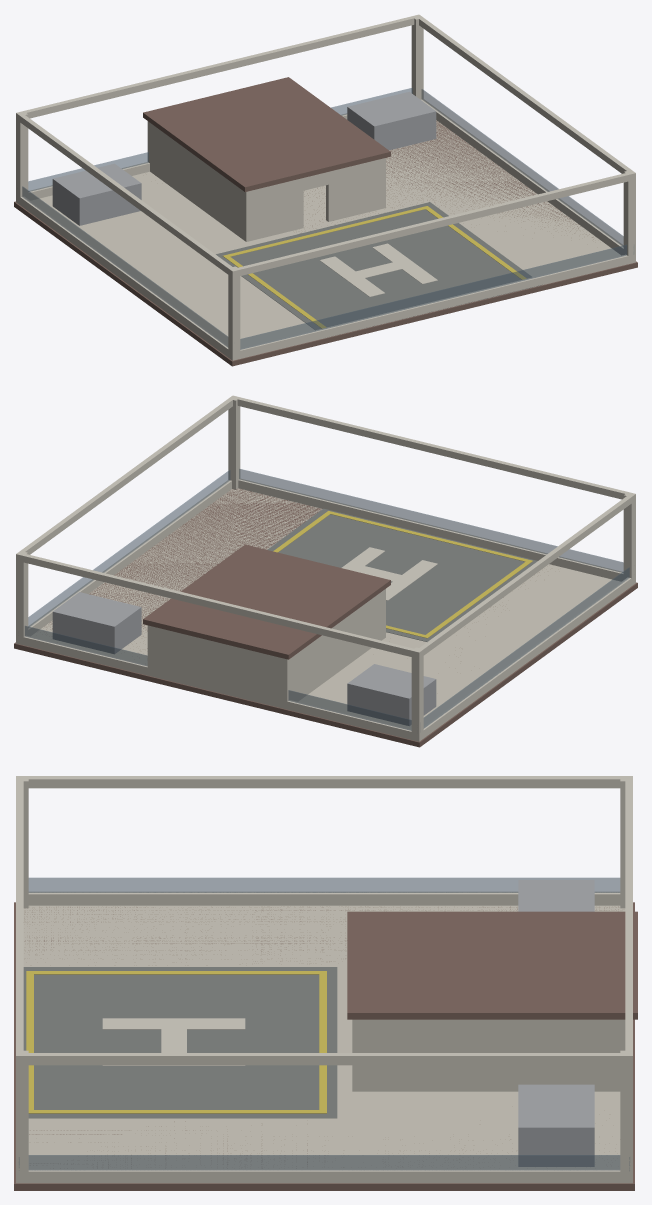
File: brick-roof-a.skyline-v2.lod1.glb
3 renders of one model, top to bottom at view 1: azimuth 30°, elevation 25°; view 2: azimuth 150°, elevation 25°; view 3: azimuth 270°, elevation 25°, orthographic. The views are drawn at different scales.
Visible parts, largest first — view 1: brick-roof-a; view 2: brick-roof-a; view 3: brick-roof-a.
Boxes of the visible parts, left/top/right/bottom form: brick-roof-a: left=14, top=14, right=637, bottom=366; brick-roof-a: left=14, top=395, right=637, bottom=747; brick-roof-a: left=14, top=776, right=637, bottom=1190.
Bounding box in the file's own units: 26.16 × 5.8 × 24.48.
